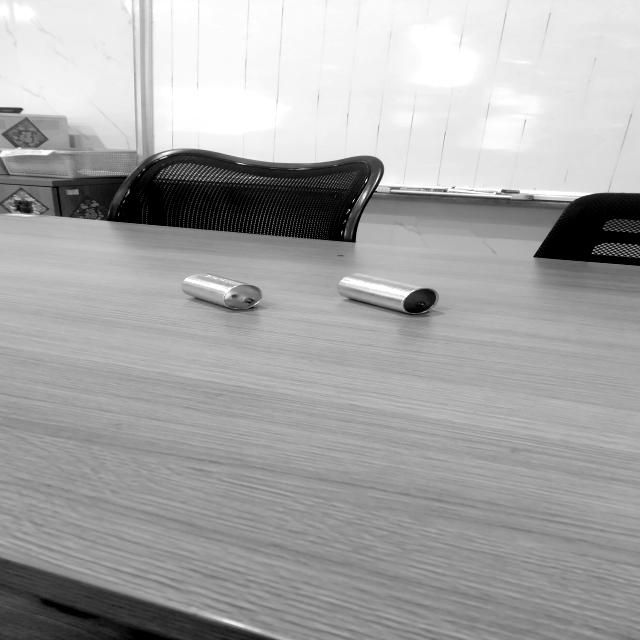Co_Lon: (335, 269, 440, 320)
Co_Nho: (179, 268, 264, 316)
